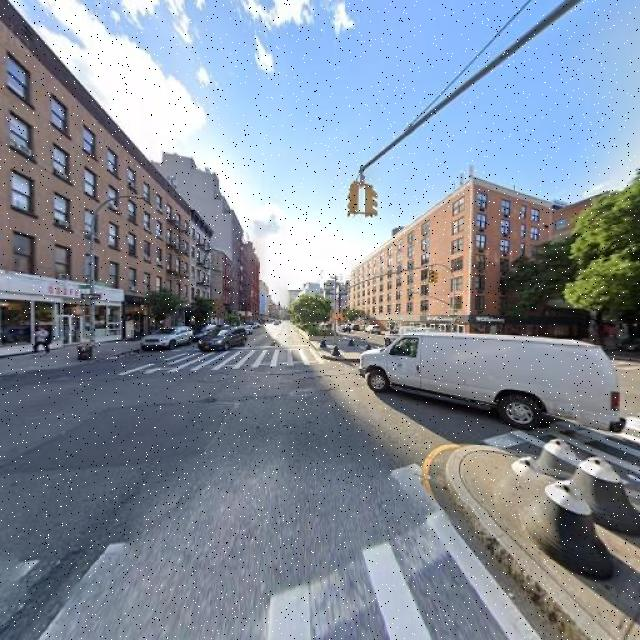Building: (1, 1, 212, 358), (347, 172, 593, 343)
